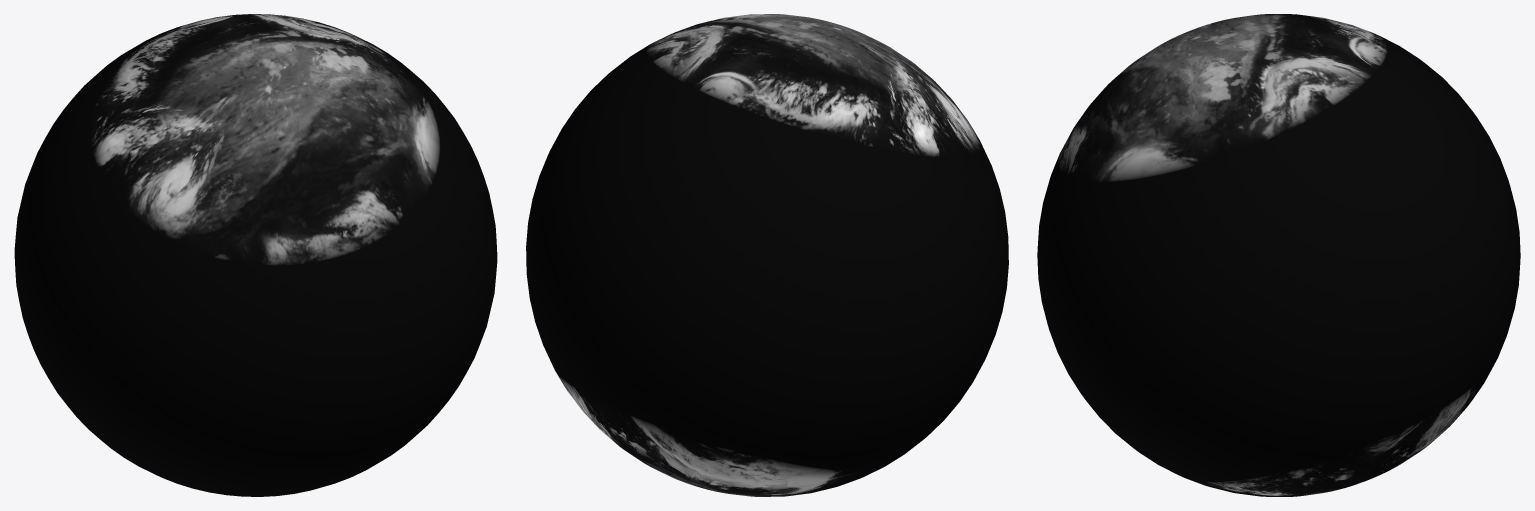
File: skybox_static_jovian_01.glb
3 views of the same model, side by side, from view 1: azimuth 30°, elevation 25°; view 2: azimuth 150°, elevation 25°; view 3: azimuth 270°, elevation 25° (orthographic).
Parts seen in each view (by area): view 1: PlanetClouds; view 2: PlanetClouds; view 3: PlanetClouds.
Part boxes in pixels (x1=…): PlanetClouds: x1=14, y1=14, x2=497, y2=496; PlanetClouds: x1=526, y1=14, x2=1008, y2=496; PlanetClouds: x1=1037, y1=14, x2=1520, y2=496.
Size of the model in its own units: 0.9305 by 0.9303 by 0.9304.
2 materials, 2 textured.
